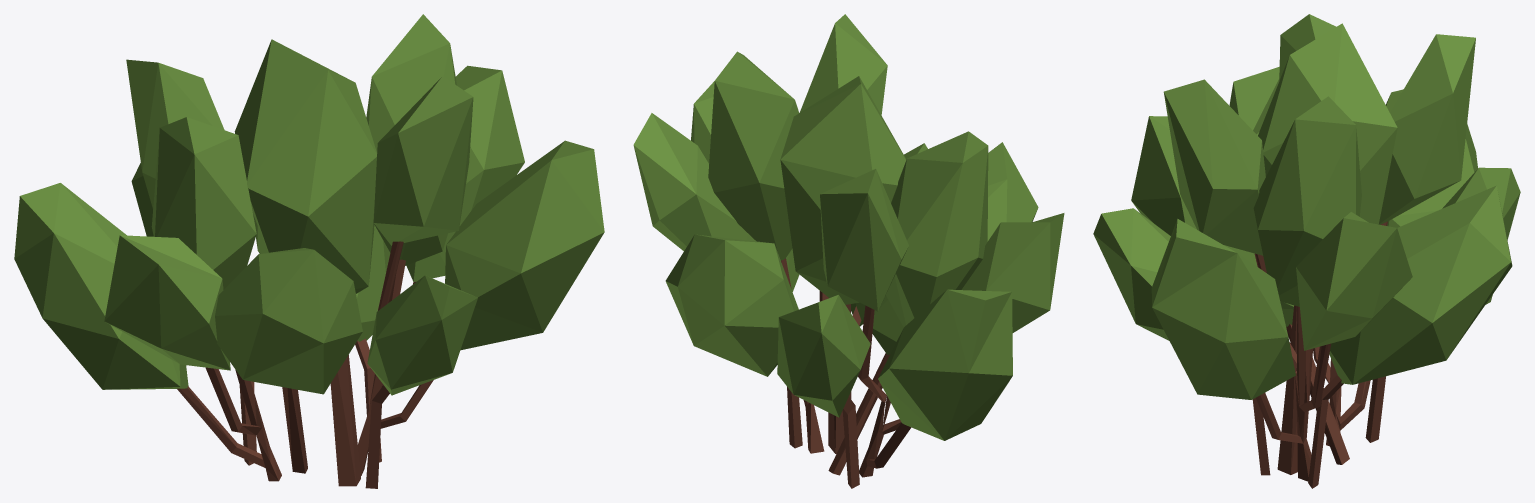
Rendered from SM_RF_AshTree_03.fbx.
3 views of the same model, side by side, from view 1: azimuth 30°, elevation 25°; view 2: azimuth 150°, elevation 25°; view 3: azimuth 270°, elevation 25° (orthographic). The views are drawn at different scales.
Parts seen in each view (by area): view 1: SM_RF_AshTree_03; view 2: SM_RF_AshTree_03; view 3: SM_RF_AshTree_03.
Part boxes in pixels (x1=…): SM_RF_AshTree_03: x1=14, y1=14, x2=604, y2=488; SM_RF_AshTree_03: x1=633, y1=14, x2=1064, y2=488; SM_RF_AshTree_03: x1=1093, y1=14, x2=1520, y2=488.
Bounding box in the file's own units: 175 × 163 × 148.
